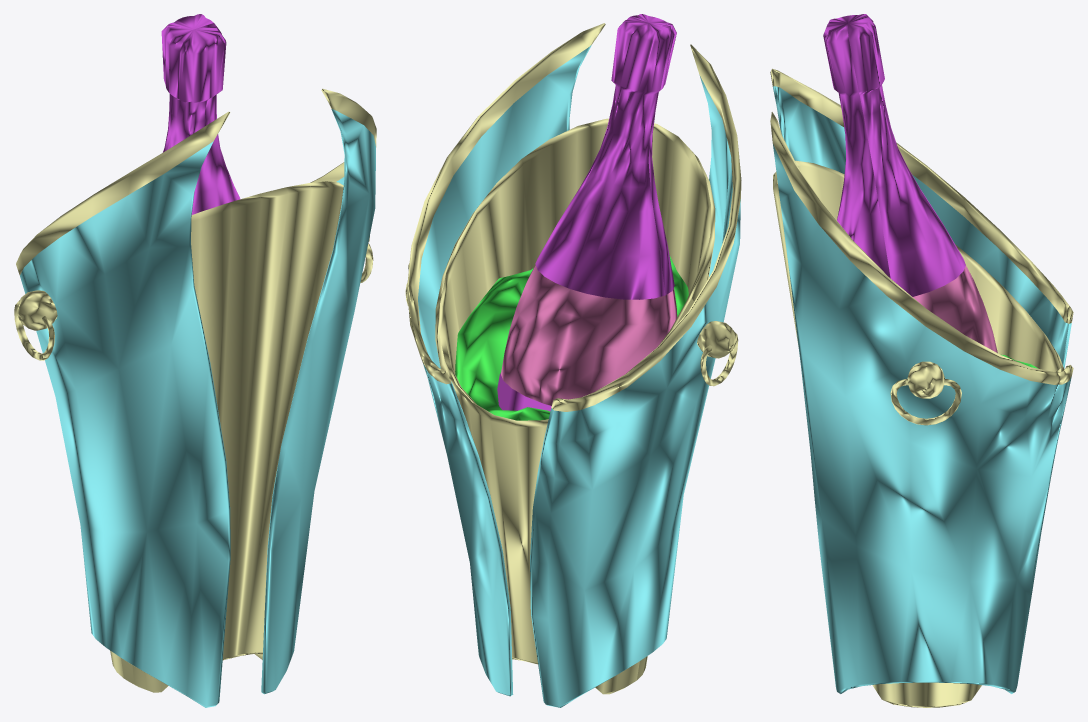
Rendered from bar_cooler_1_bottle_a.glb.
3 views of the same model, side by side, from view 1: azimuth 30°, elevation 25°; view 2: azimuth 150°, elevation 25°; view 3: azimuth 270°, elevation 25° (orthographic). The views are drawn at different scales.
Size of the model in its own units: 0.1955 by 0.3658 by 0.1568.
